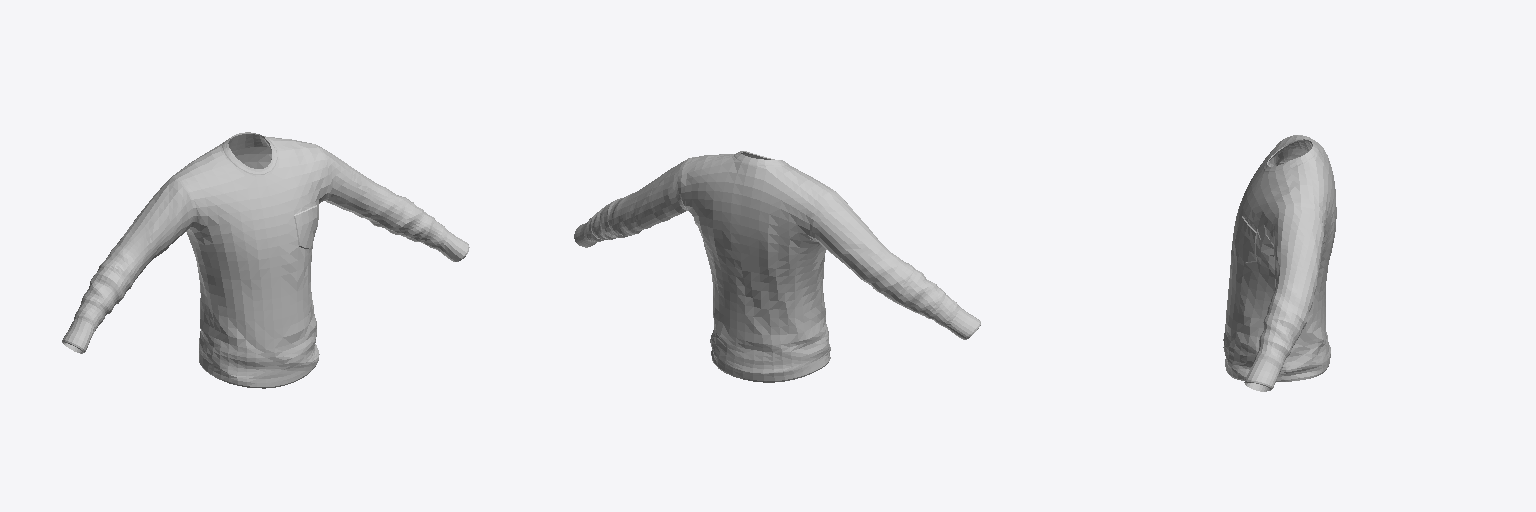
File: shirtTwo.obj
The picture shows the model from 3 angles: view 1: azimuth 30°, elevation 25°; view 2: azimuth 150°, elevation 25°; view 3: azimuth 270°, elevation 25°; orthographic projection.
Visible parts, largest first — view 1: defaultMaterial; view 2: defaultMaterial; view 3: defaultMaterial.
Part boxes in pixels (bbox=[...]): defaultMaterial: bbox=[62, 132, 469, 388]; defaultMaterial: bbox=[574, 151, 980, 382]; defaultMaterial: bbox=[1223, 135, 1336, 391].
Bounding box in the file's own units: 2 × 1.05 × 0.487.